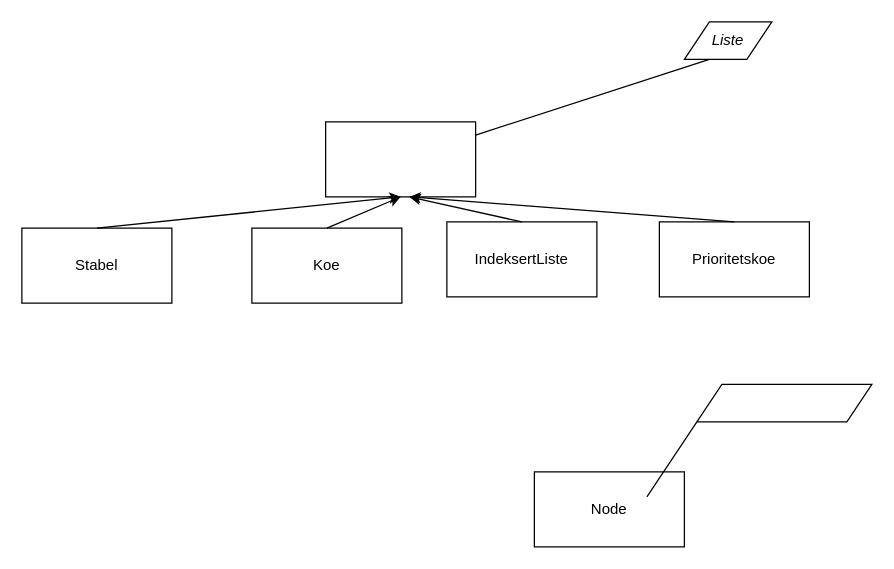
Image size: 894x569. Some labels were removed from this diagram. The centre of each missing label's shape, as x and y in pixels:
"Comparable<Node>" goes at point (784, 402).
"Lenkeliste" goes at point (400, 159).
